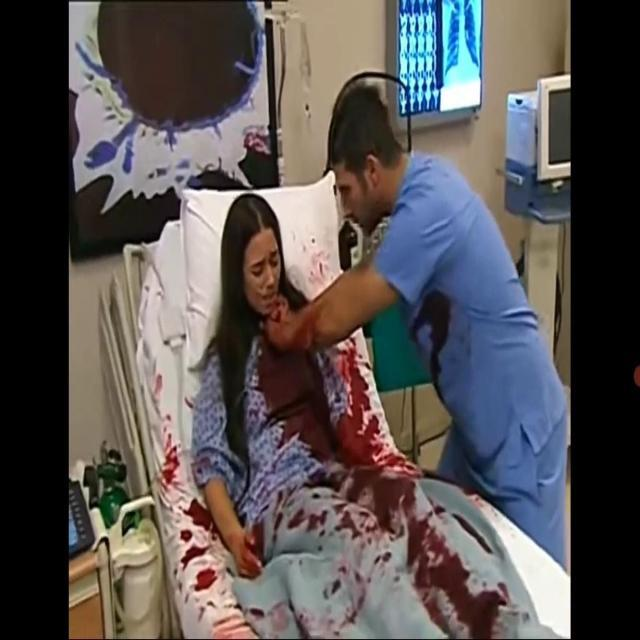flood: (245, 279, 406, 519), (412, 507, 498, 633)
